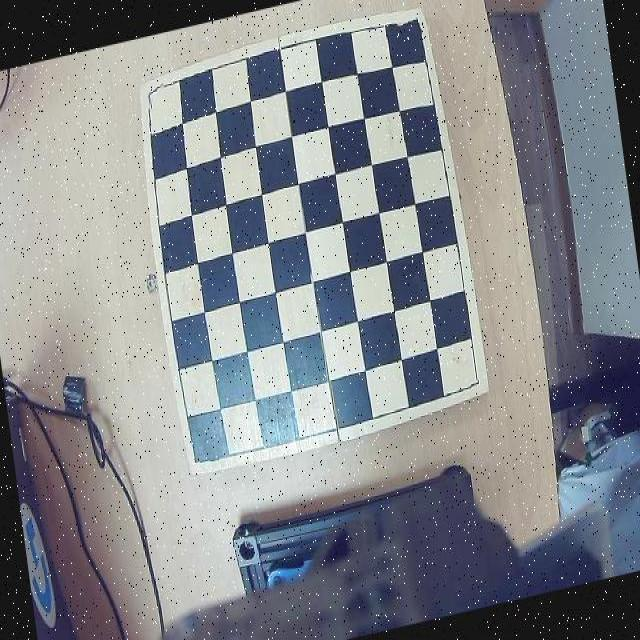chess-table-corners: (188, 438, 222, 474), (453, 364, 487, 399), (396, 7, 429, 42), (140, 75, 168, 109)
